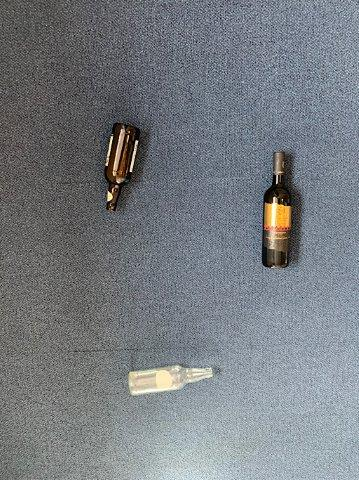botolkaca: (261, 152, 292, 269), (104, 123, 140, 213), (127, 365, 213, 395)
